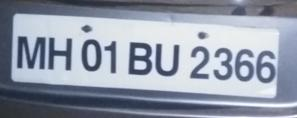0: (79, 37, 103, 72)
1: (102, 39, 121, 73)
2: (189, 43, 211, 83)
3: (214, 45, 234, 81)
6: (254, 47, 277, 85), (235, 47, 255, 82)
B: (128, 39, 153, 76)
H: (48, 35, 74, 73)
M: (16, 34, 46, 71)
U: (155, 39, 181, 78)
